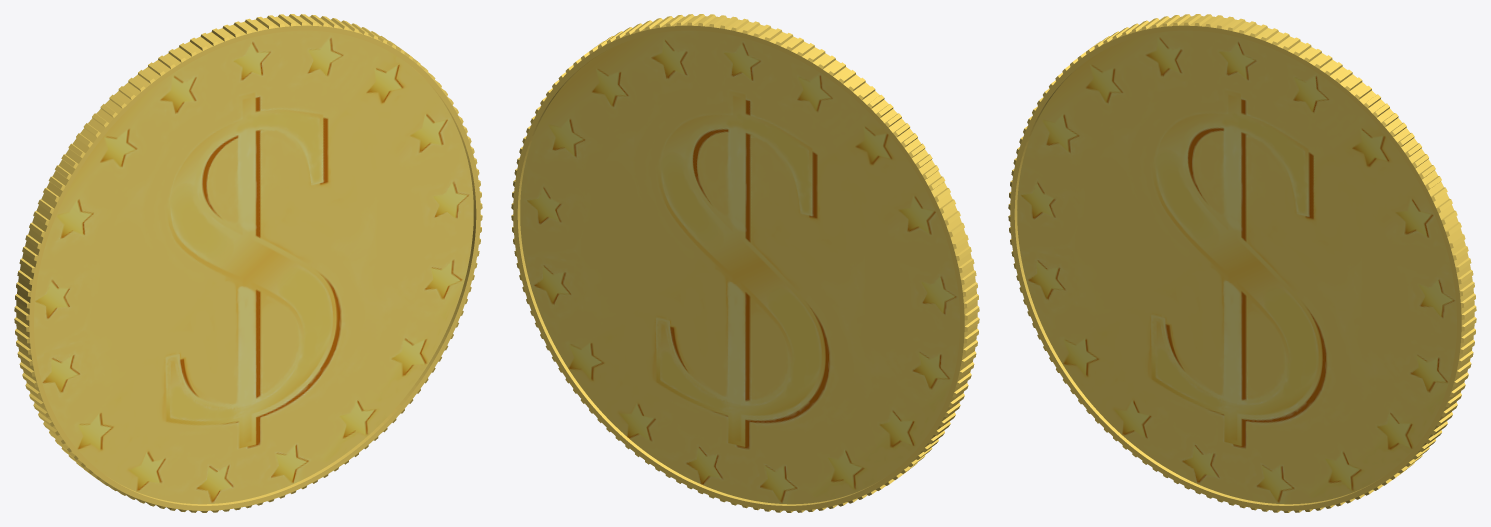
The model's file is coin.fbx.
3 renders of one model, left to right at view 1: azimuth 30°, elevation 25°; view 2: azimuth 150°, elevation 25°; view 3: azimuth 330°, elevation 25°, orthographic.
Parts seen in each view (by area): view 1: Cylinder; view 2: Cylinder; view 3: Cylinder.
Boxes of the visible parts, x1,y1,x2,y2 form: Cylinder: (14,14,482,512); Cylinder: (511,14,979,512); Cylinder: (1008,14,1476,512).
Size of the model in its own units: 202 by 202 by 10.09.
